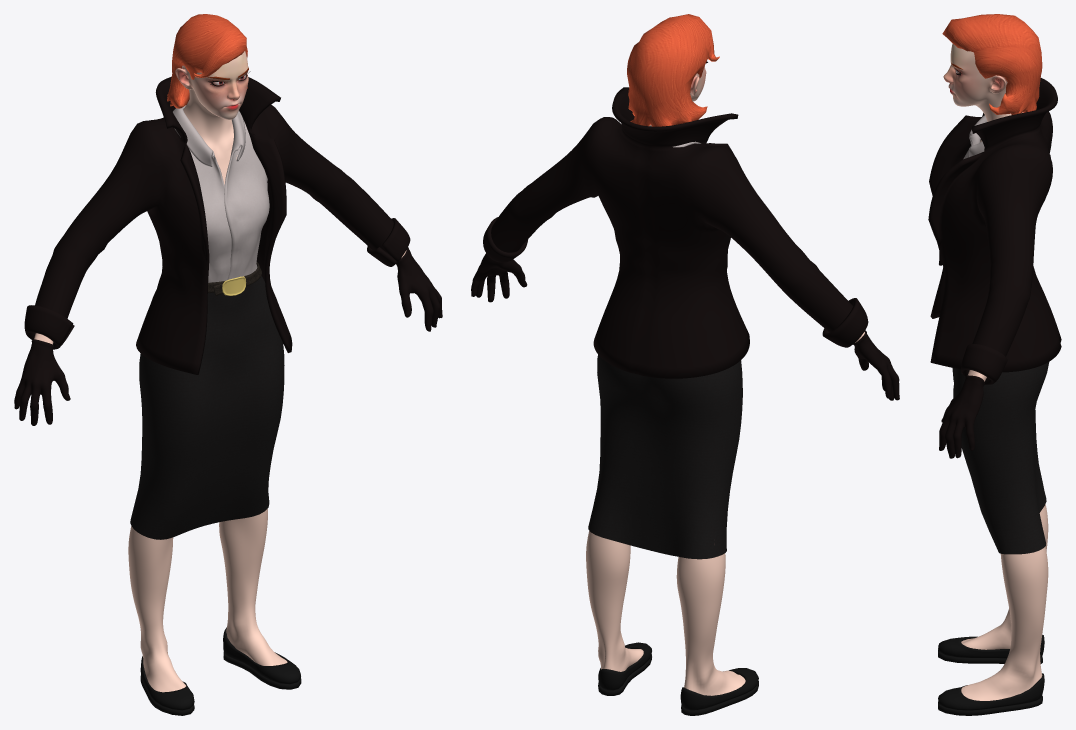
Rendered from DeborahHill_Textured.fbx.
3 views of the same model, side by side, from view 1: azimuth 30°, elevation 25°; view 2: azimuth 150°, elevation 25°; view 3: azimuth 270°, elevation 25° (orthographic).
Parts seen in each view (by area): view 1: DeborahHill; view 2: DeborahHill; view 3: DeborahHill.
Part boxes in pixels (x1,y1,x2,y2): DeborahHill: (14, 14, 442, 715); DeborahHill: (471, 14, 899, 715); DeborahHill: (928, 14, 1061, 715).
Bounding box in the file's own units: 1.2 × 1.8 × 0.3266.
